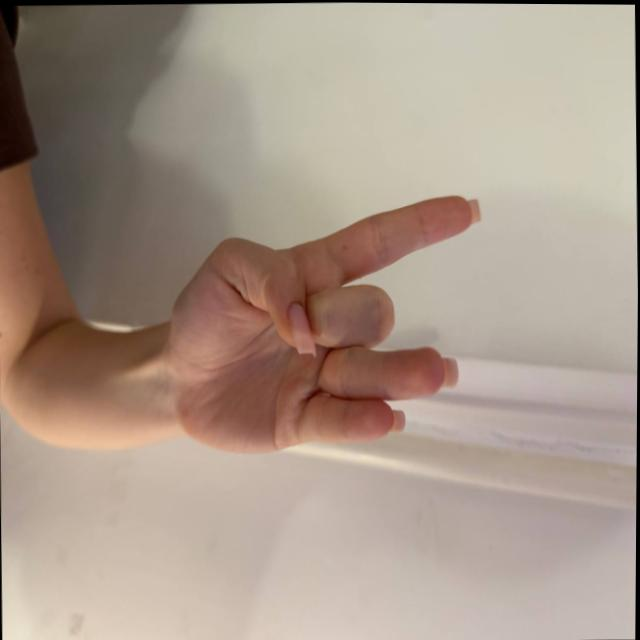r: (145, 170, 558, 504)
